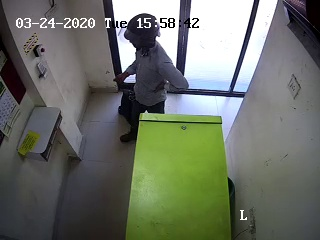helmet: (119, 13, 165, 61)
